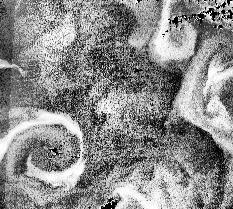AE: (15, 111, 87, 191)
